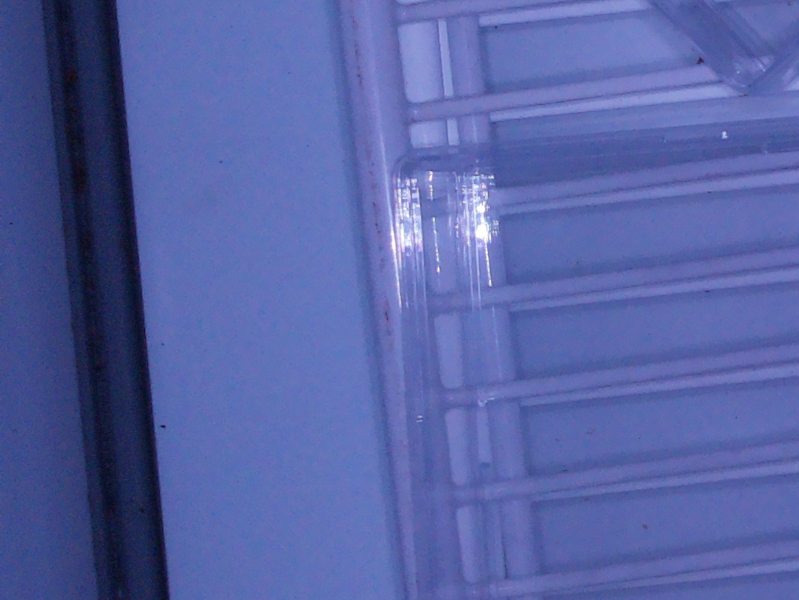plate: (391, 110, 799, 600), (648, 1, 799, 100)
